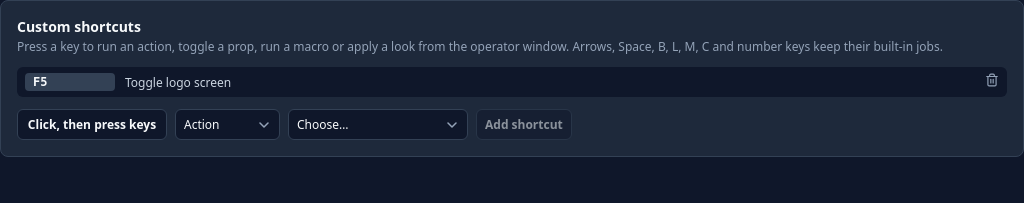
Test: KeyBindingsCard › explains why a reserved or taken key cannot be added
expect the element with test id "key-binding-row" is shown: met, box x1=17 y1=67 x2=1007 y2=97
Click the button with test id "key-capture" at (92, 124), box x1=17 y1=109 x2=167 y2=140
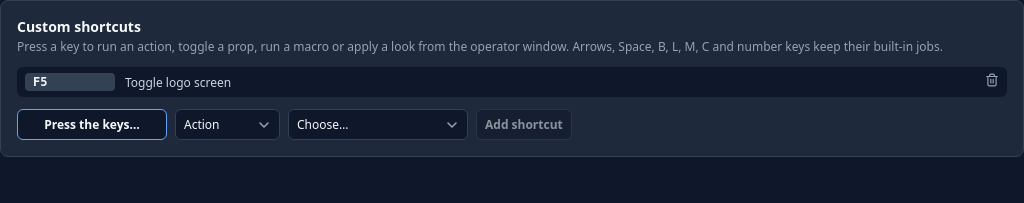
Press Space in the button with test id "key-capture", box x1=17 y1=109 x2=167 y2=140
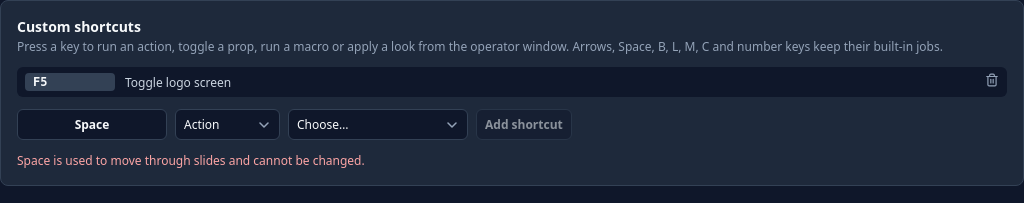
Select "Clear all (blank output)" in the dropdown with test id "key-target" at (378, 124), box x1=288 y1=109 x2=468 y2=140
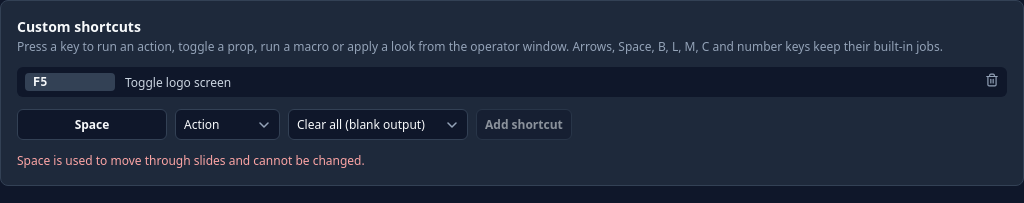
expect the button with test id "key-add" is disabled: met, box x1=476 y1=109 x2=572 y2=140
expect the text with test id "key-binding-error" shows "slides": met, box x1=17 y1=152 x2=365 y2=169
Click the button with test id "key-capture" at (92, 124), box x1=17 y1=109 x2=167 y2=140
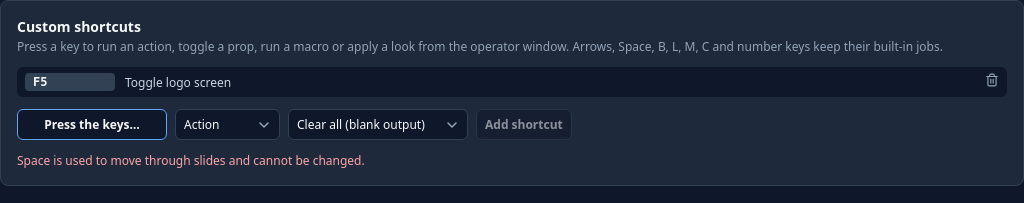
Press F5 in the button with test id "key-capture", box x1=17 y1=109 x2=167 y2=140
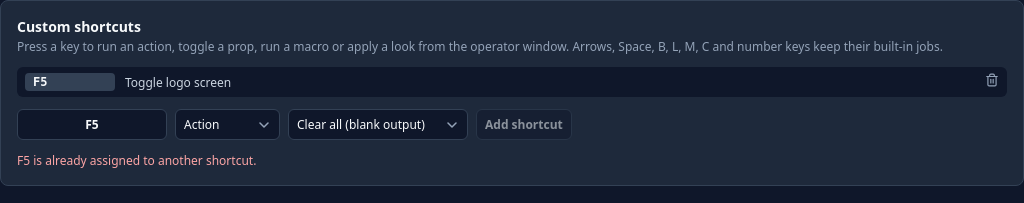
expect the button with test id "key-add" is disabled: met, box x1=476 y1=109 x2=572 y2=140
expect the text with test id "key-binding-error" shows "already assigned": met, box x1=17 y1=152 x2=256 y2=169
